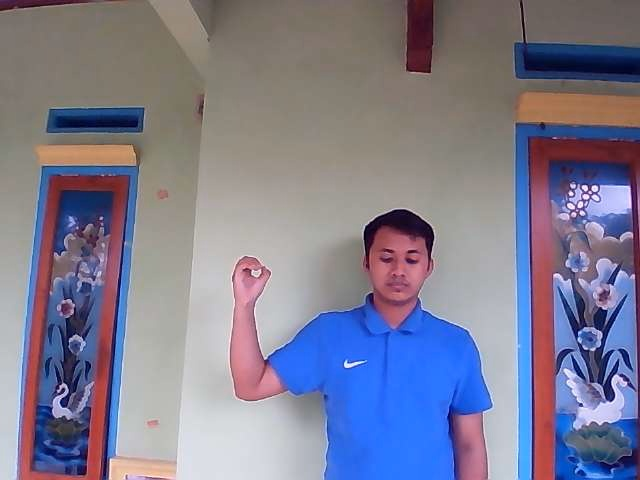O: (232, 255, 272, 305)
